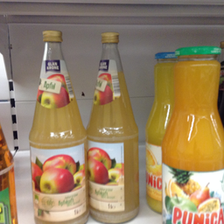juice: (29, 30, 88, 224), (163, 46, 223, 223), (86, 32, 139, 224)
